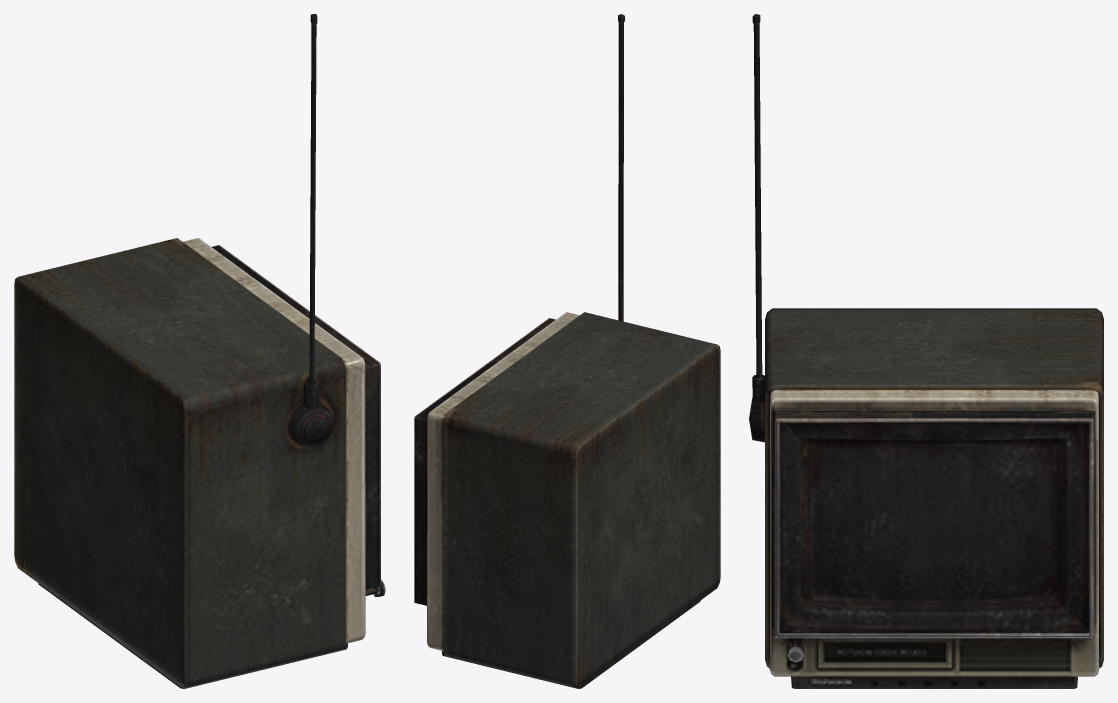
The model's file is prop_television.fbx.
3 views of the same model, side by side, from view 1: azimuth 30°, elevation 25°; view 2: azimuth 150°, elevation 25°; view 3: azimuth 270°, elevation 25° (orthographic). The views are drawn at different scales.
Parts seen in each view (by area): view 1: prop_television; view 2: prop_television; view 3: prop_television.
Part boxes in pixels (box(x1,y1,x2,y2)): prop_television: box(14, 14, 385, 688); prop_television: box(414, 14, 720, 688); prop_television: box(749, 14, 1103, 688).
Size of the model in its own units: 55.26 by 165 by 81.99.
